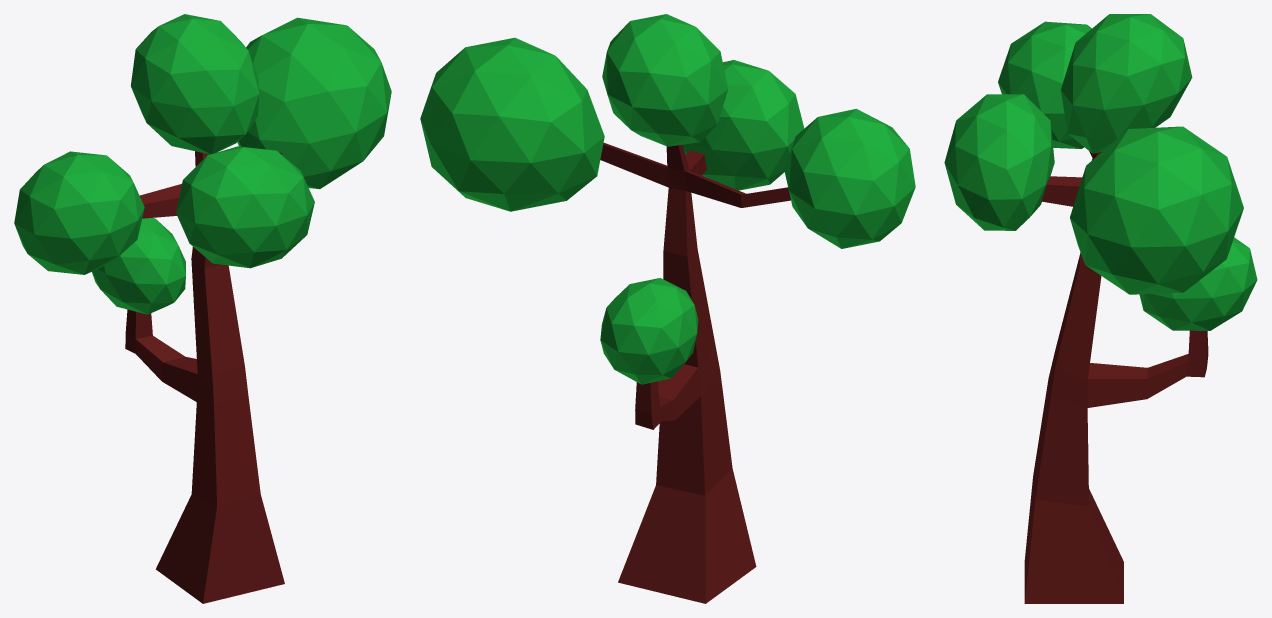
File: Tree 1.2.fbx
3 views of the same model, side by side, from view 1: azimuth 30°, elevation 25°; view 2: azimuth 150°, elevation 25°; view 3: azimuth 270°, elevation 25° (orthographic). The views are drawn at different scales.
Visible parts, largest first — view 1: Cube; view 2: Cube; view 3: Cube.
Boxes of the visible parts, x1,y1,x2,y2 form: Cube: (14,14,391,603); Cube: (420,14,915,603); Cube: (944,14,1257,603).
Bounding box in the file's own units: 231 × 299 × 150.
